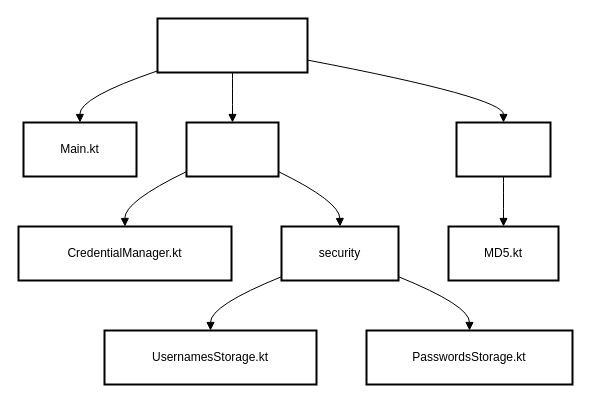
Some shapes in this 590 by 402 pixel diagram are drawn without their labels. Each missing label, with the centre of its shape:
"data" goes at point 232,149.
"logic" goes at point 503,149.
"org.qudus" goes at point 232,45.
